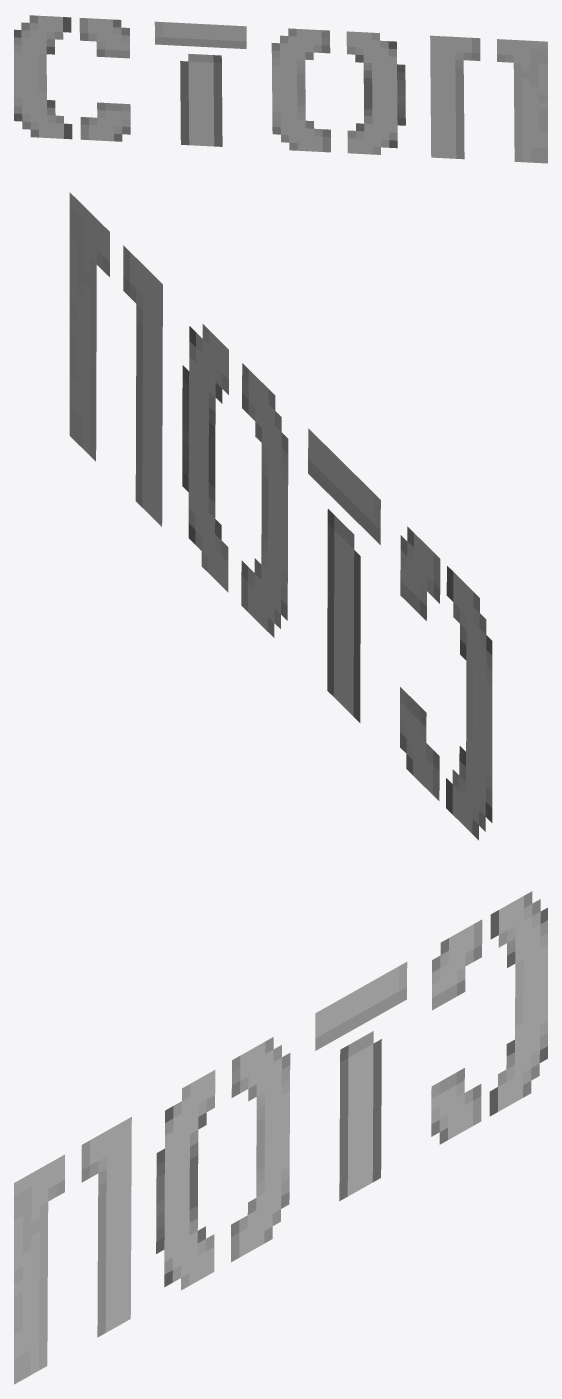
Rendered from Dam_Alpha_80.glb.
3 views of the same model, one above another, from view 1: azimuth 30°, elevation 25°; view 2: azimuth 150°, elevation 25°; view 3: azimuth 270°, elevation 25° (orthographic). The views are drawn at different scales.
Parts seen in each view (by area): view 1: Dam_Alpha_80; view 2: Dam_Alpha_80; view 3: Dam_Alpha_80.
Part boxes in pixels (x1=…): Dam_Alpha_80: x1=14, y1=15, x2=547, y2=163; Dam_Alpha_80: x1=69, y1=192, x2=492, y2=840; Dam_Alpha_80: x1=14, y1=891, x2=547, y2=1384.
Bounding box in the file's own units: 4 × 1.25 × 3.
Materials: 1 (1 with a texture image).
